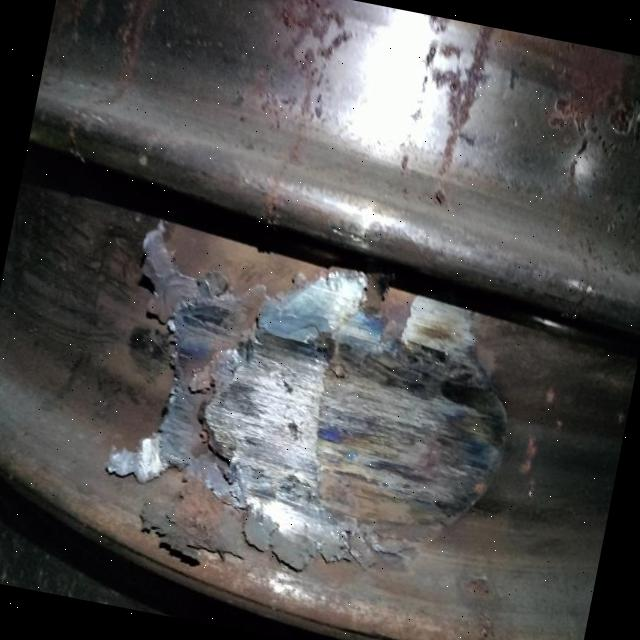Peeling: (89, 217, 535, 580)
